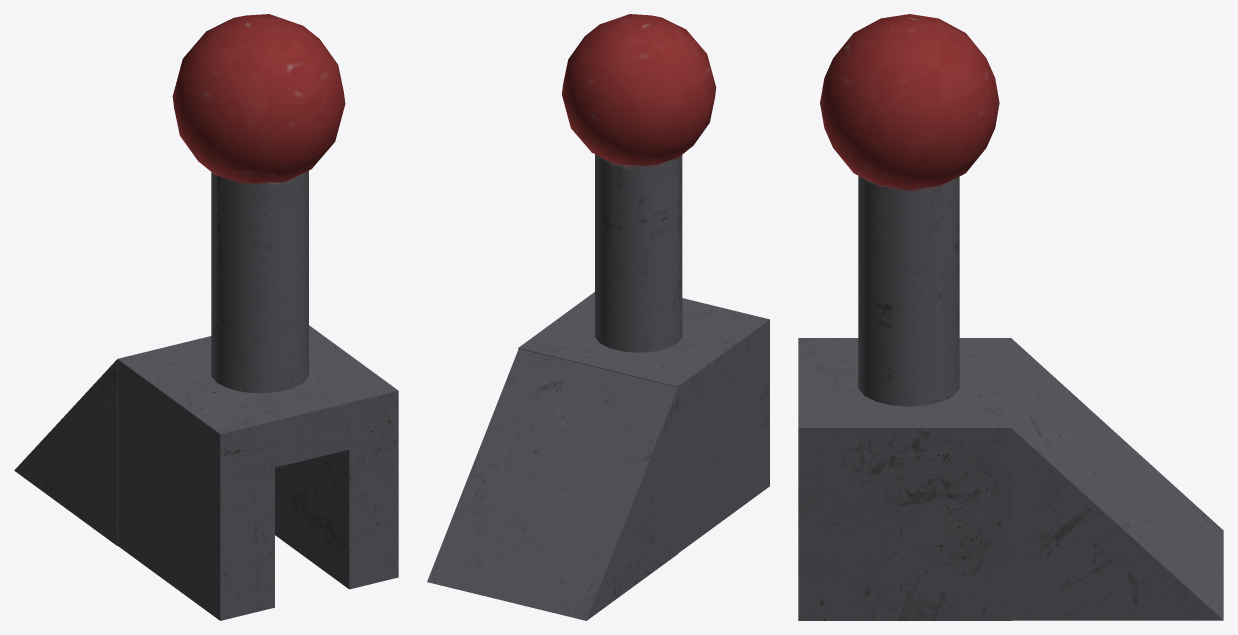
Rendered from spawn.FBX.
The picture shows the model from 3 angles, left to right: view 1: azimuth 30°, elevation 25°; view 2: azimuth 150°, elevation 25°; view 3: azimuth 270°, elevation 25°; orthographic projection. The views are drawn at different scales.
Parts seen in each view (by area): view 1: Box001; view 2: Box001; view 3: Box001.
Boxes of the visible parts, x1,y1,x2,y2 form: Box001: (14, 14, 398, 620); Box001: (427, 14, 769, 620); Box001: (798, 14, 1223, 620).
Size of the model in its own units: 50.15 by 99.75 by 144.
Materials: 1 (1 with a texture image).
